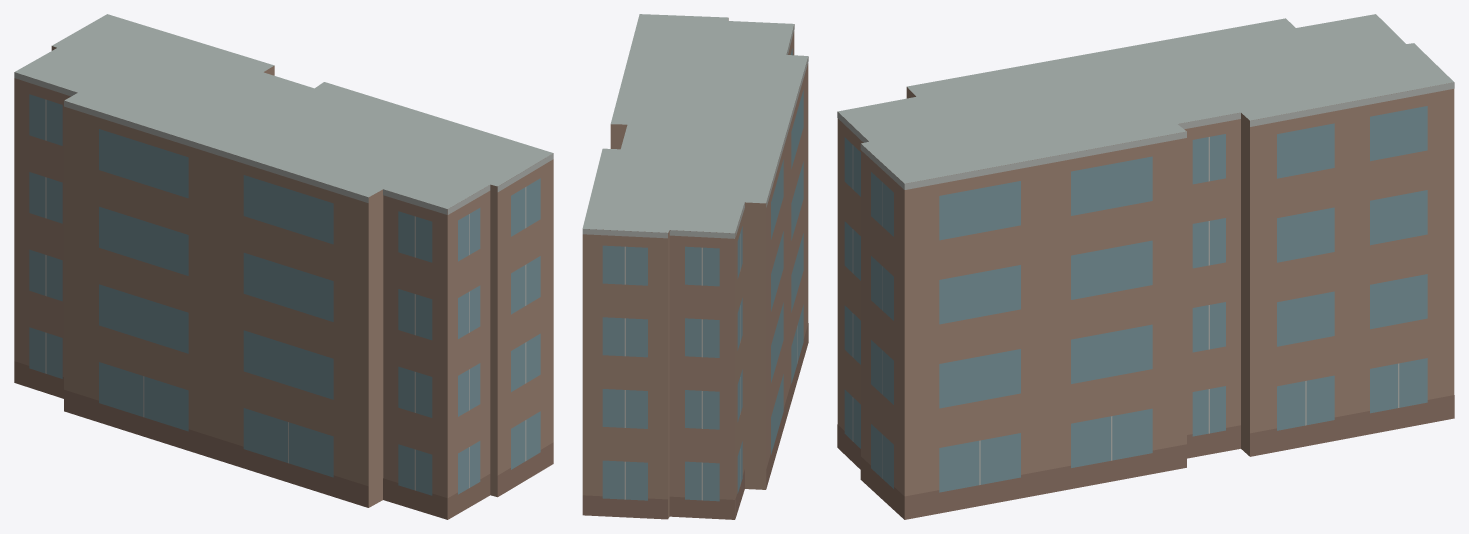
The model's file is survey-upis-32475165.glb.
3 views of the same model, side by side, from view 1: azimuth 30°, elevation 25°; view 2: azimuth 150°, elevation 25°; view 3: azimuth 270°, elevation 25° (orthographic). The views are drawn at different scales.
Visible parts, largest first — view 1: survey-upis-32475165.tmp; view 2: survey-upis-32475165.tmp; view 3: survey-upis-32475165.tmp.
Boxes of the visible parts, x1=… form: survey-upis-32475165.tmp: x1=14, y1=14, x2=553, y2=519; survey-upis-32475165.tmp: x1=582, y1=14, x2=808, y2=519; survey-upis-32475165.tmp: x1=837, y1=14, x2=1454, y2=519.
Size of the model in its own units: 13.76 by 12.7 by 21.13.
